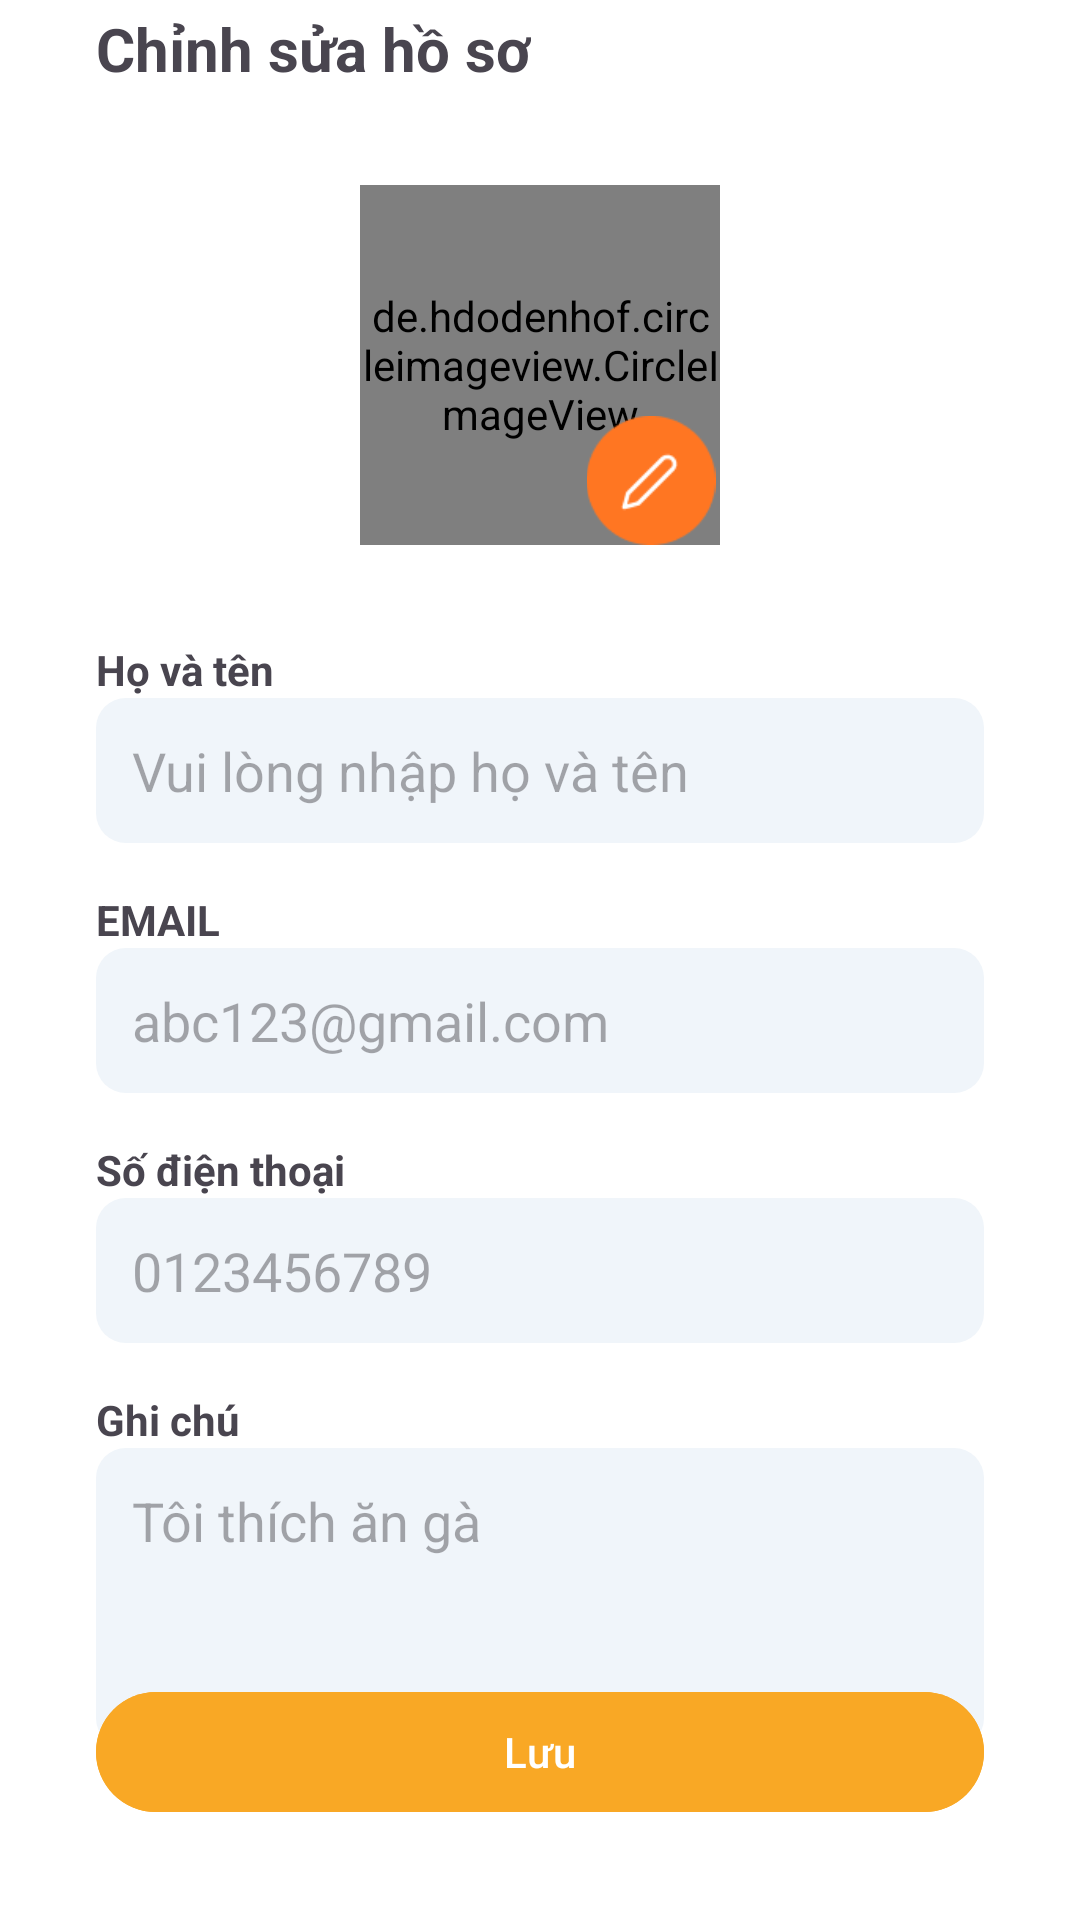

Screen size 1080 x 1920. Icon name, then its center in pixels as (x=x, y=y):
cayviet: (x=651, y=480)
